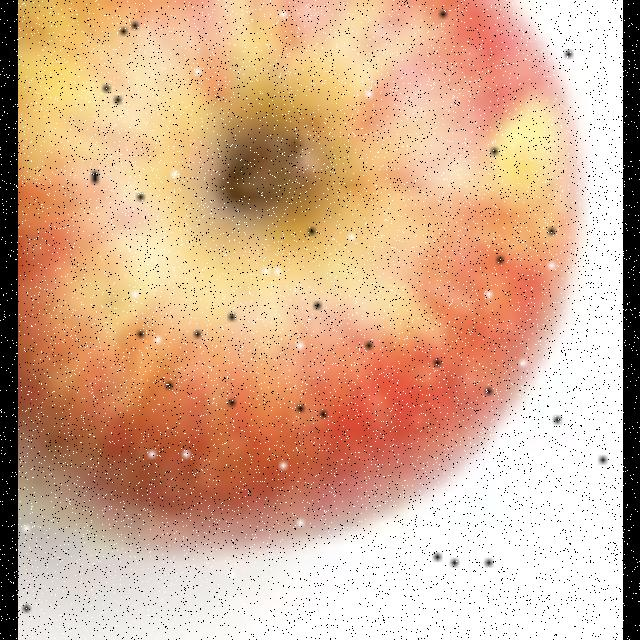Apel Segar: (18, 0, 582, 548)
